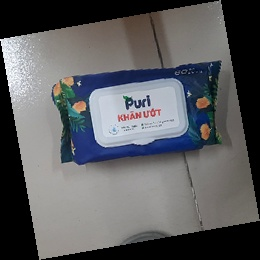Puri Xanh: (50, 59, 230, 167)
